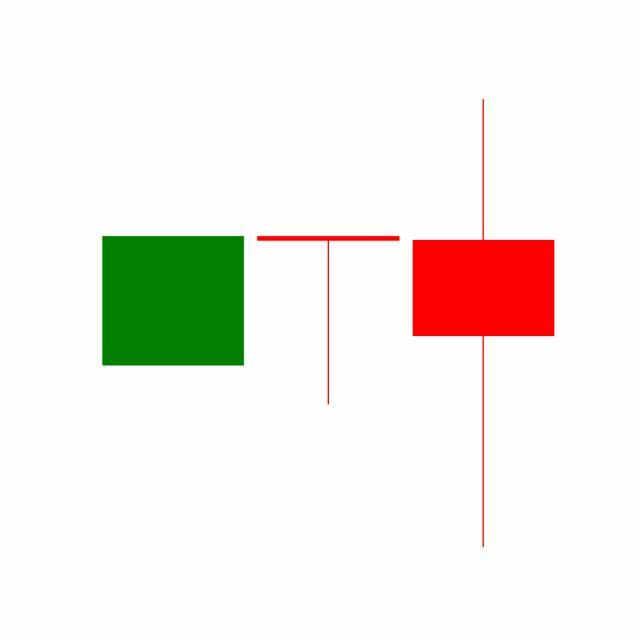Hanging Man: (250, 234, 407, 407)
